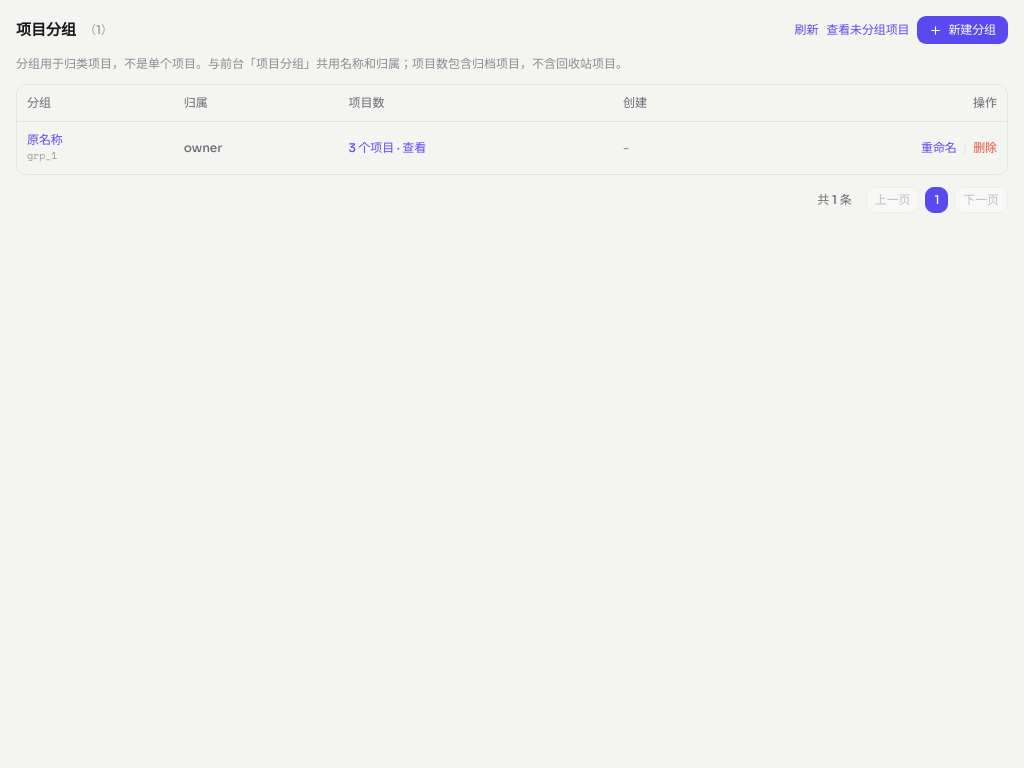
Scenario: project group rename › opens corresponding projects and the ungrouped list
The width and height of the screenshot is (1024, 768).
Click the button "3 个项目 · 查看". click: (387, 148)
box: [349,140,426,156]
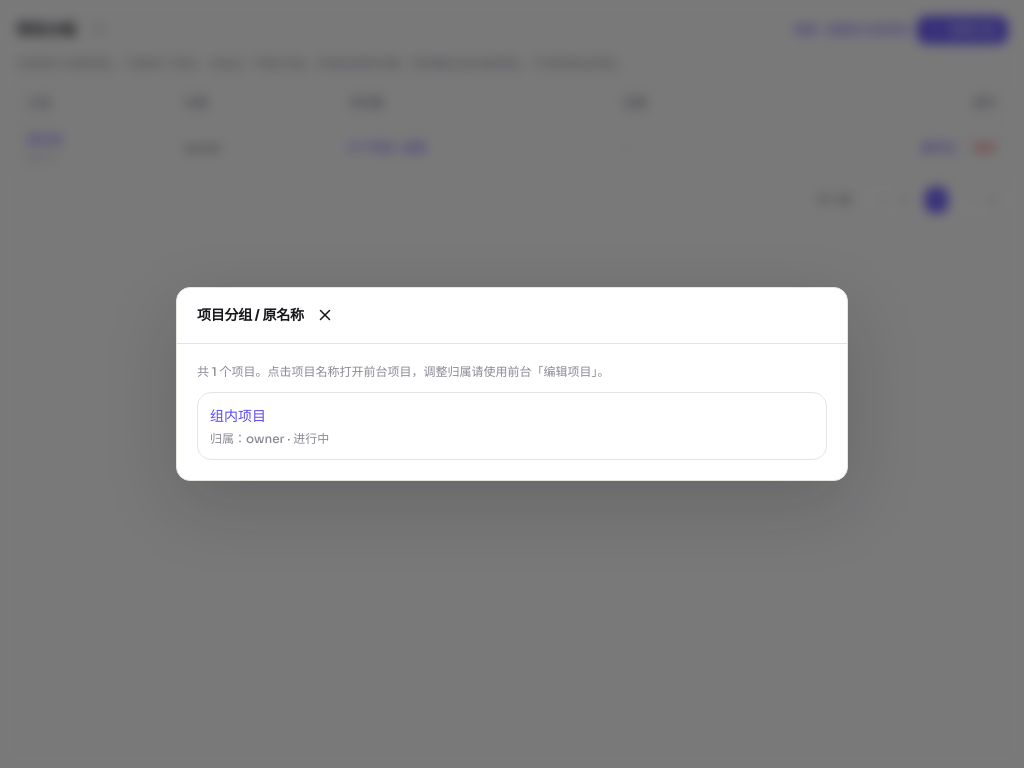
Click the button named "关闭组内项目". click: (325, 315)
box: [316,306,334,324]
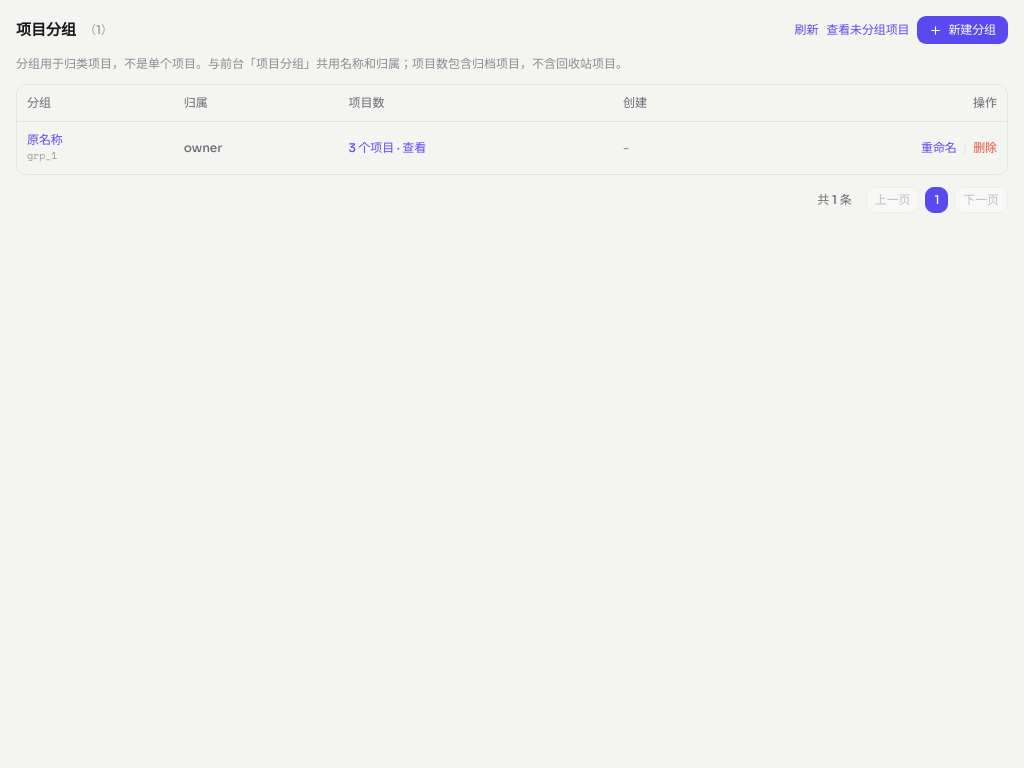
Click the button "查看未分组项目". click: (868, 30)
box: [826,22,910,38]
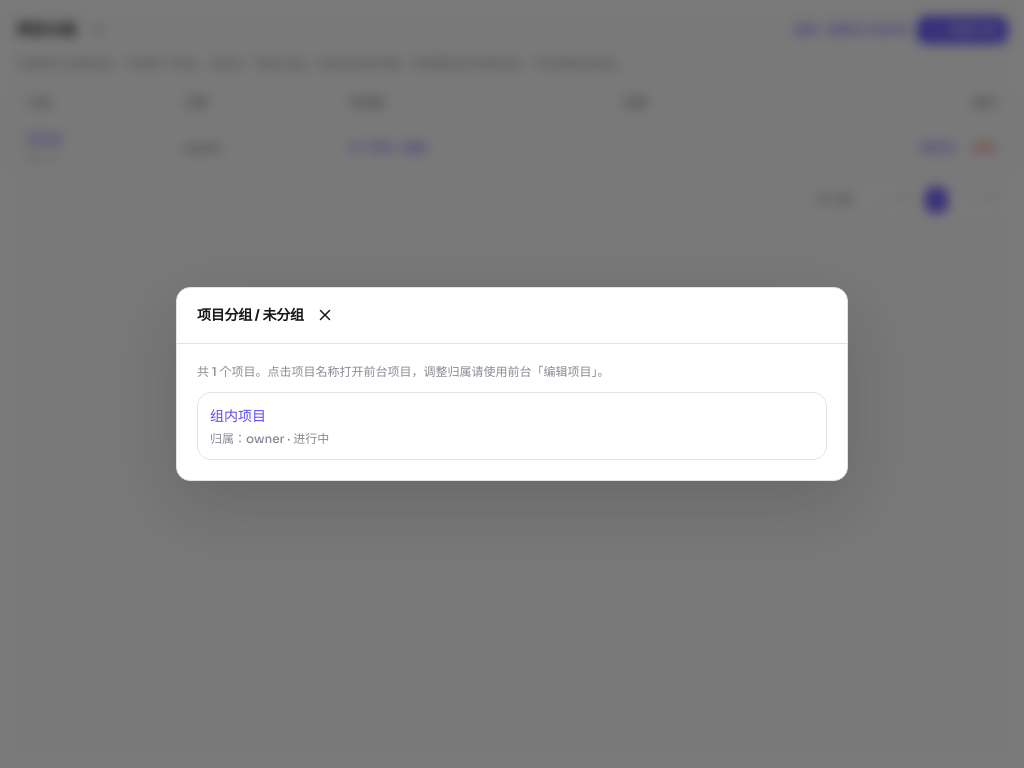
Now the dialog named "分组内项目" is shown
